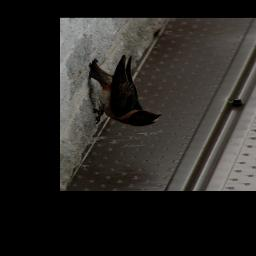Swallow: (86, 54, 162, 127)
